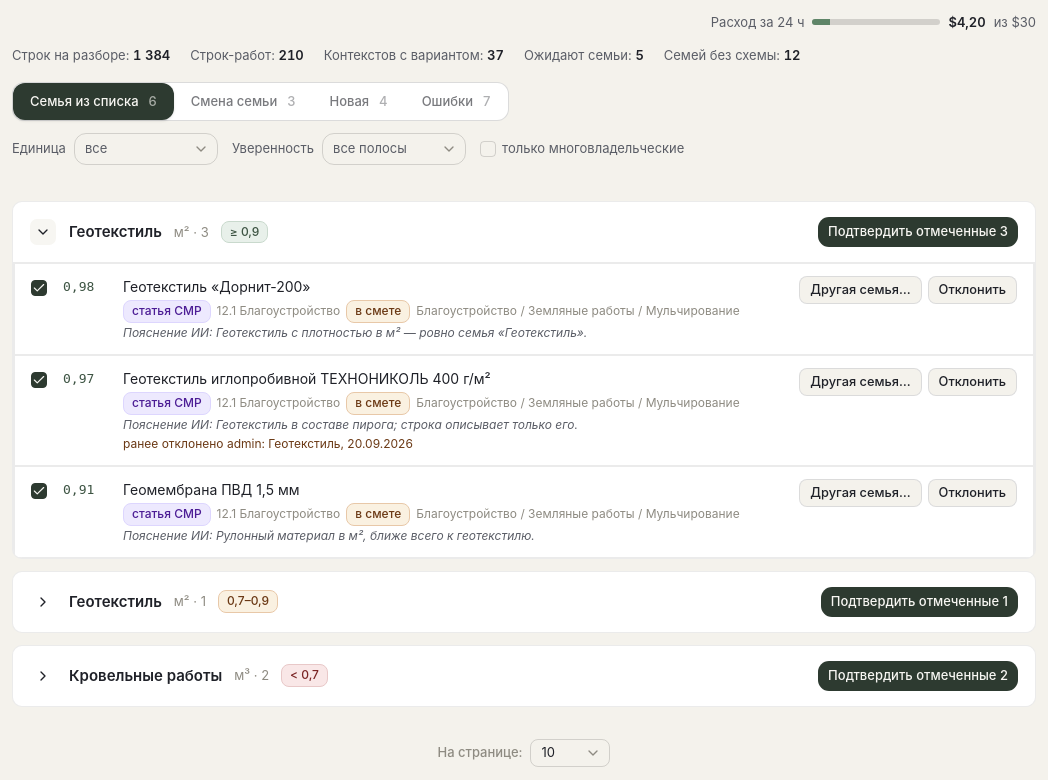
Test: SuggestionsTab — фильтры › полоса «≥ 0,9» выбирает группу полосы high, а не соседнюю mid
Click the dropdown named "Уверенность" at (394, 149), box [322, 133, 466, 165]
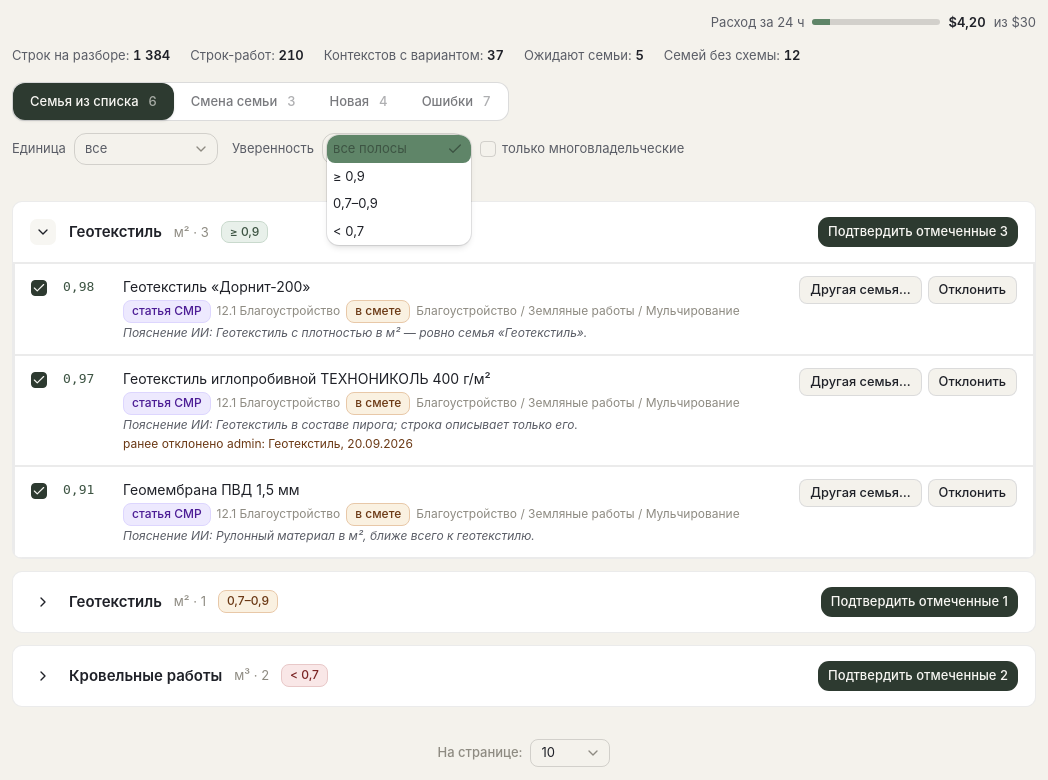
Click the option "≥ 0,9" at (349, 176), box [333, 168, 365, 184]
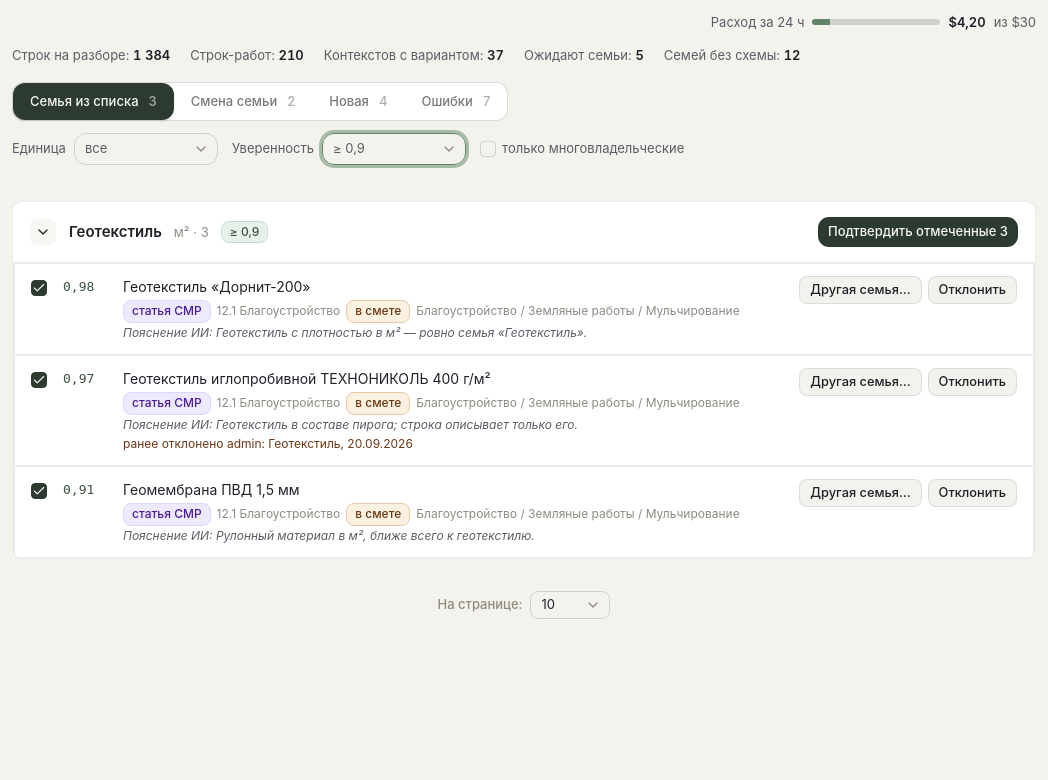
Expected: the 2nd text "≥ 0,9" is shown, [221, 221, 268, 244]
Expected: the number of elements with test id "suggestion-group" is 1, [12, 201, 1036, 559]
